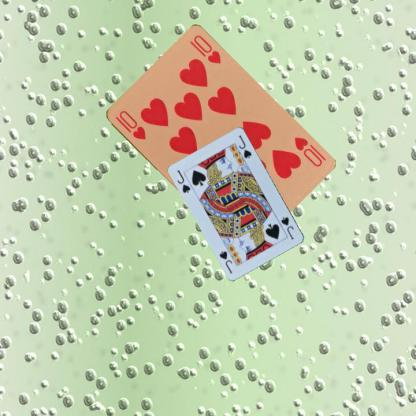10h: (112, 107, 147, 141), (291, 134, 324, 168)
Js: (278, 214, 296, 241), (174, 167, 192, 194)
